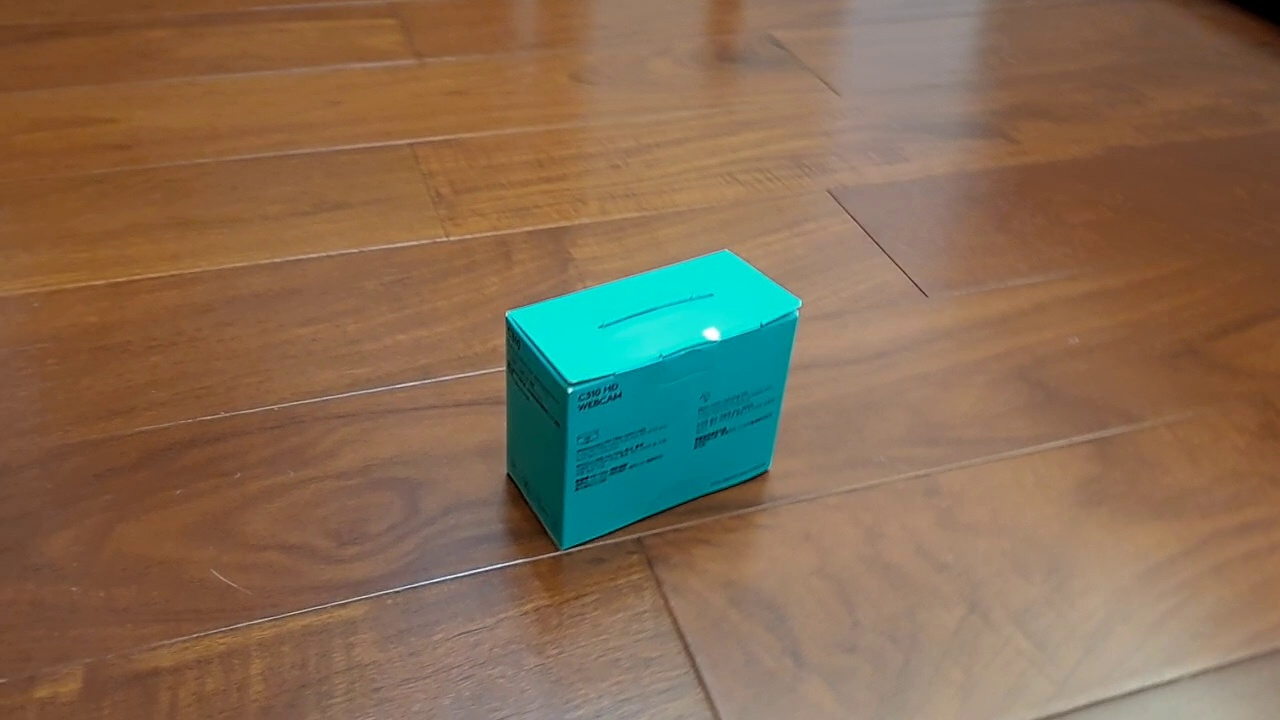webcam: (503, 246, 804, 552)
